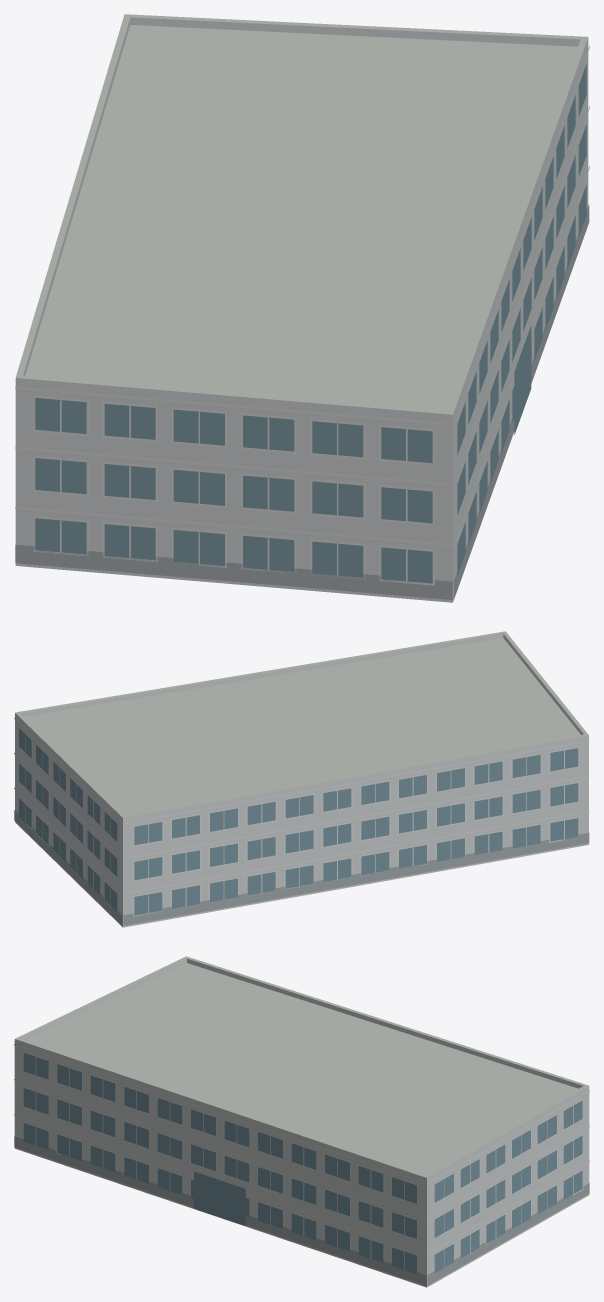
File: public-74ecd8ac-426c-414d-b37e-d6c57f7dc81c.glb
3 renders of one model, top to bottom at view 1: azimuth 30°, elevation 25°; view 2: azimuth 150°, elevation 25°; view 3: azimuth 270°, elevation 25°, orthographic. The views are drawn at different scales.
Parts seen in each view (by area): view 1: public-74ecd8ac-426c-414d-b37e-d6c57f7dc81c; view 2: public-74ecd8ac-426c-414d-b37e-d6c57f7dc81c; view 3: public-74ecd8ac-426c-414d-b37e-d6c57f7dc81c.
Part boxes in pixels (<box>): public-74ecd8ac-426c-414d-b37e-d6c57f7dc81c: <box>15,14,589,602</box>; public-74ecd8ac-426c-414d-b37e-d6c57f7dc81c: <box>14,631,589,927</box>; public-74ecd8ac-426c-414d-b37e-d6c57f7dc81c: <box>14,956,589,1287</box>.
Bounding box in the file's own units: 39.79 × 9.15 × 43.56.
